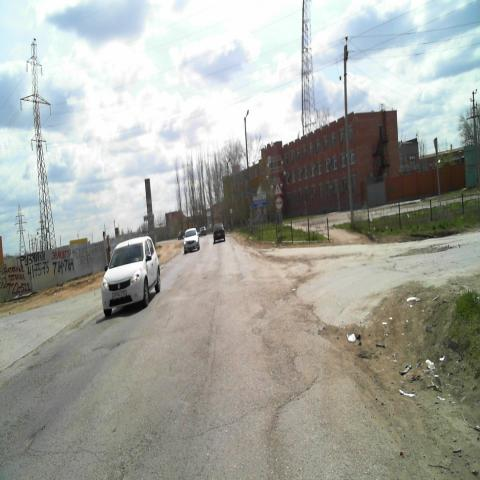1_11_1: (273, 181, 284, 196)
3_20: (275, 196, 283, 210)
